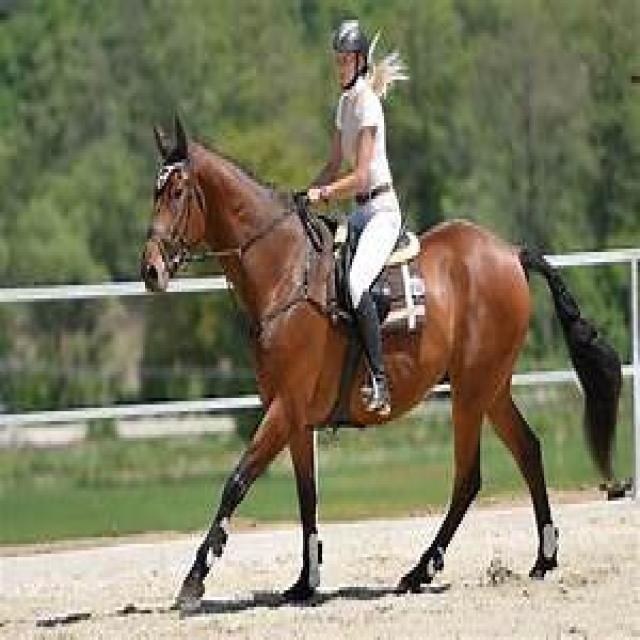horse: (143, 119, 561, 610)
